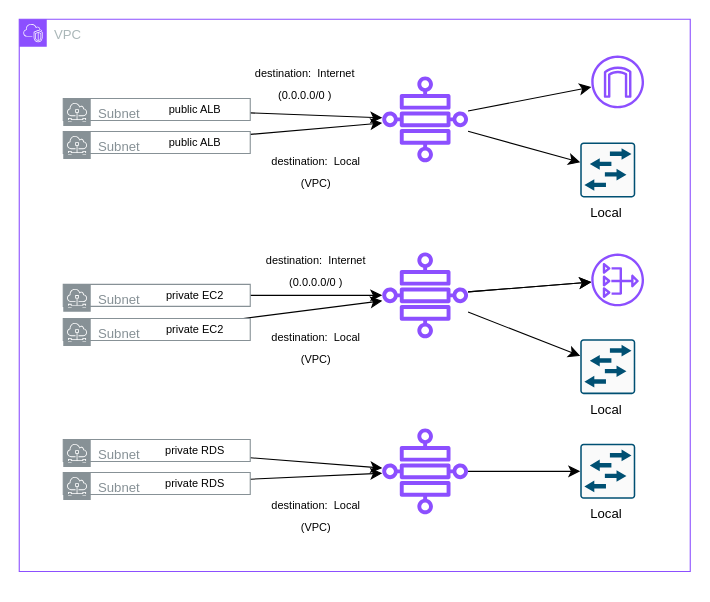
Some shapes in this 710 by 602 pixel diagram are drawn without their labels. Here are the shapes that lost their labels. From the top down, the box of each, then its label:
(591, 55, 644, 108): Internet Gateway
(382, 76, 468, 162): Public RT
(382, 252, 468, 338): Private App
(591, 253, 644, 306): NAT Gateway
(382, 428, 468, 514): Private DB
